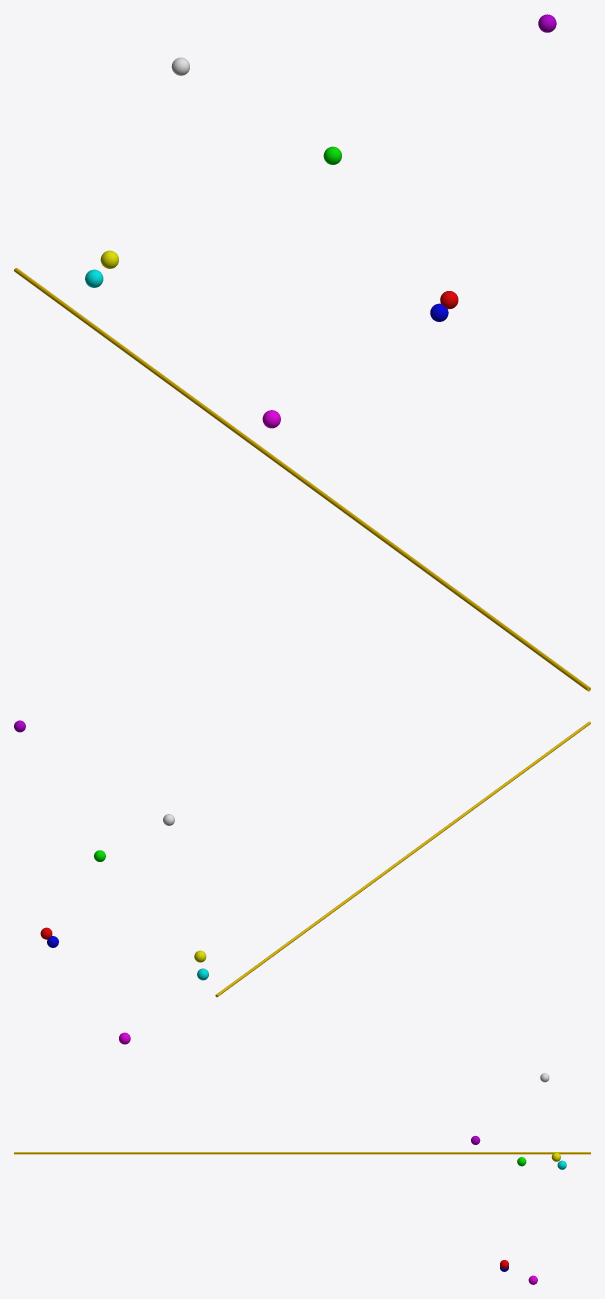
Rendered from ethercodex_final_poster.glb.
The picture shows the model from 3 angles, top to bottom: view 1: azimuth 30°, elevation 25°; view 2: azimuth 150°, elevation 25°; view 3: azimuth 270°, elevation 25°; orthographic projection. The views are drawn at different scales.
Visible parts, largest first — view 1: SplinterAxis; view 2: SplinterAxis; view 3: SplinterAxis.
Boxes of the visible parts, x1,y1,x2,y2 form: SplinterAxis: [14, 268, 590, 691]; SplinterAxis: [215, 721, 590, 997]; SplinterAxis: [14, 1152, 590, 1154].
Size of the model in its own units: 430 by 386 by 1000.
